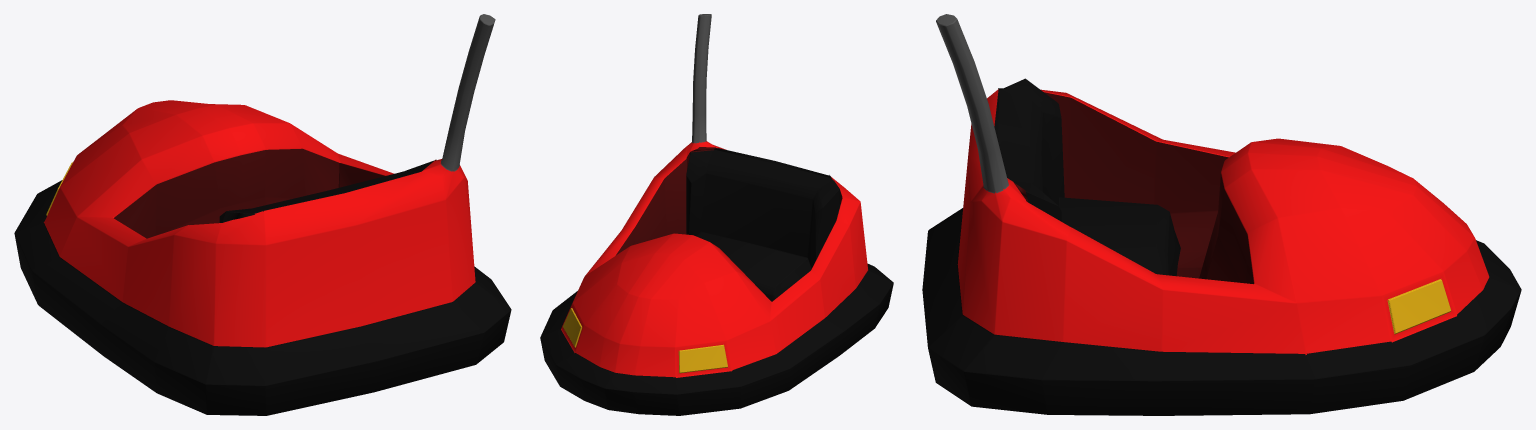
The model's file is Auto_tamponneuse_Rouge_v1_002.FBX.
3 renders of one model, left to right at view 1: azimuth 30°, elevation 25°; view 2: azimuth 150°, elevation 25°; view 3: azimuth 270°, elevation 25°, orthographic. The views are drawn at different scales.
Parts seen in each view (by area): view 1: BumperCar003; view 2: BumperCar003; view 3: BumperCar003.
Part boxes in pixels (x1=…): BumperCar003: x1=14, y1=14, x2=511, y2=415; BumperCar003: x1=540, y1=14, x2=893, y2=415; BumperCar003: x1=922, y1=14, x2=1521, y2=415.
Size of the model in its own units: 59.47 by 57.75 by 82.37.
